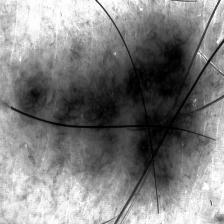Benign Marking or Mole: (15, 32, 195, 184)
